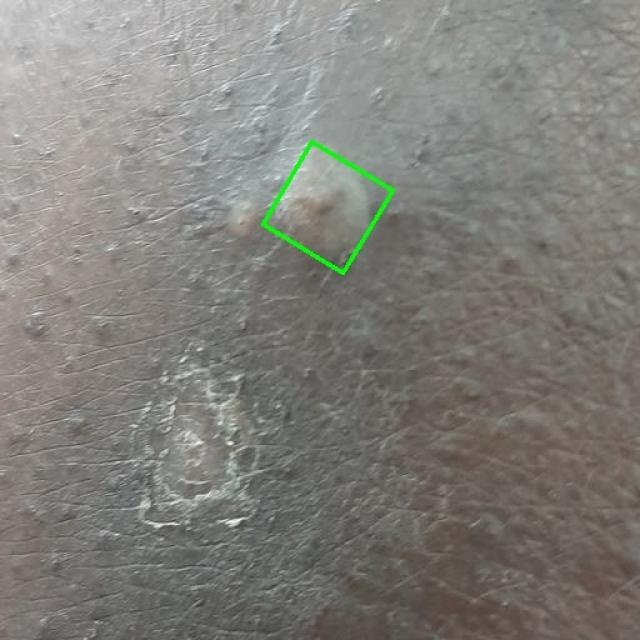Seborrheic Dermatitis: (263, 142, 393, 273)
